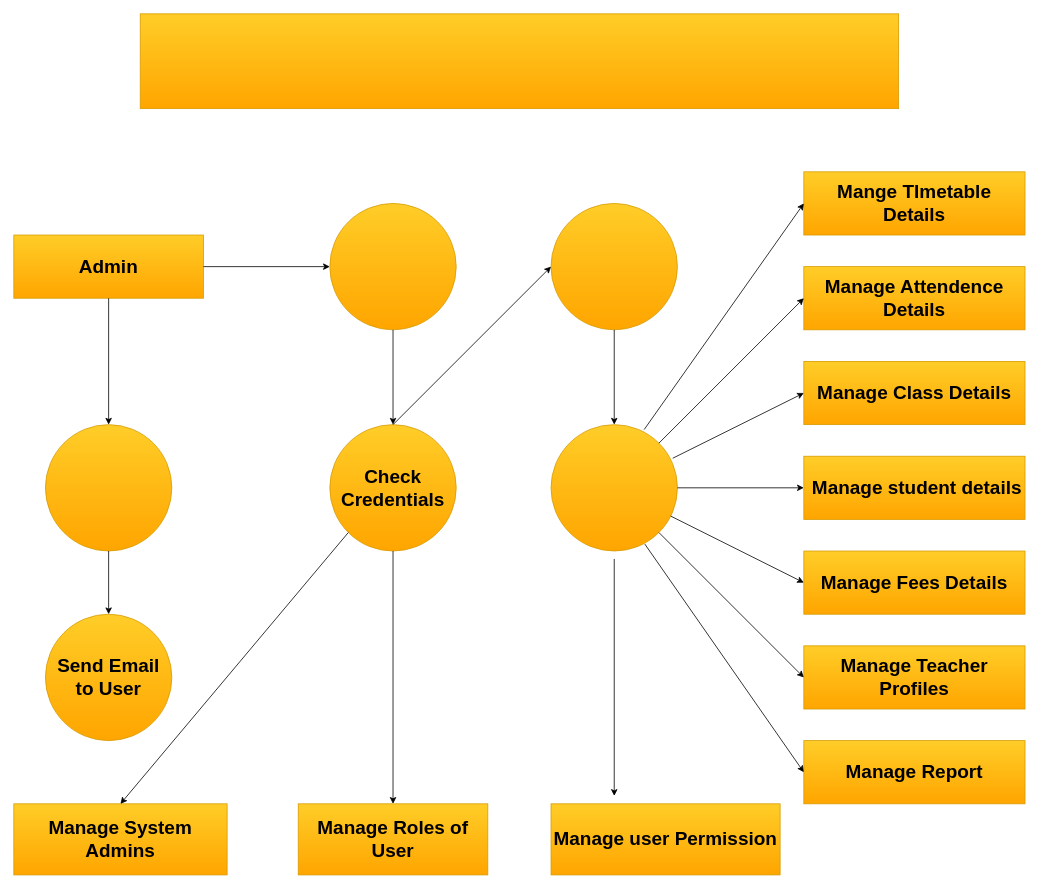
Image size: 1039x889. Some labels were removed from this diagram. Each missing label, with the box of its shape:
Check Roles of Access: (550, 203, 677, 330)
Forget Password: (45, 424, 172, 551)
Login to System: (329, 203, 456, 330)
Manage Modules: (550, 424, 677, 551)
Student Information System: (139, 13, 899, 109)
